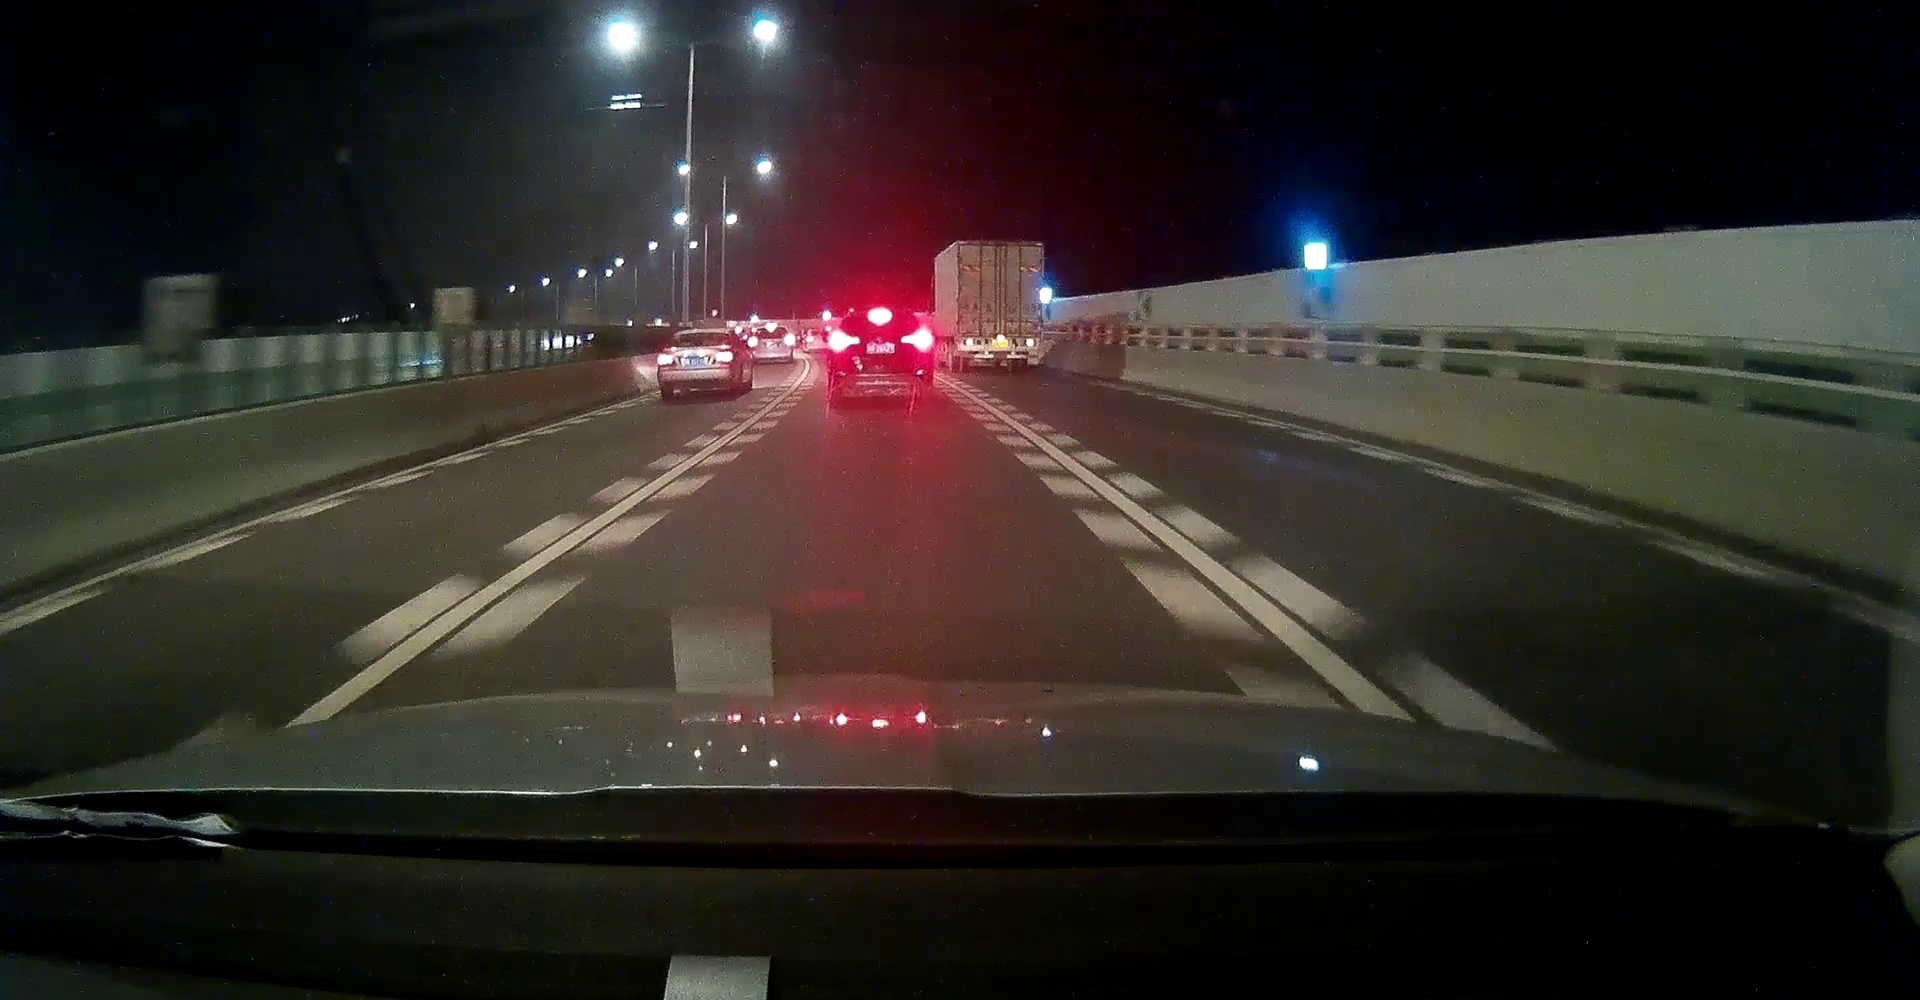L_light: (829, 332, 860, 346), (963, 338, 983, 346), (657, 357, 676, 365), (748, 339, 758, 345)
R_light: (902, 331, 932, 346), (712, 352, 733, 363), (1018, 338, 1037, 346), (783, 338, 792, 344)
T_light: (869, 313, 891, 322), (990, 244, 1010, 250), (695, 332, 706, 338), (766, 327, 775, 332)
night-brake: (828, 306, 935, 409), (747, 325, 794, 364)
night-no: (955, 240, 1044, 373), (657, 327, 735, 400)
